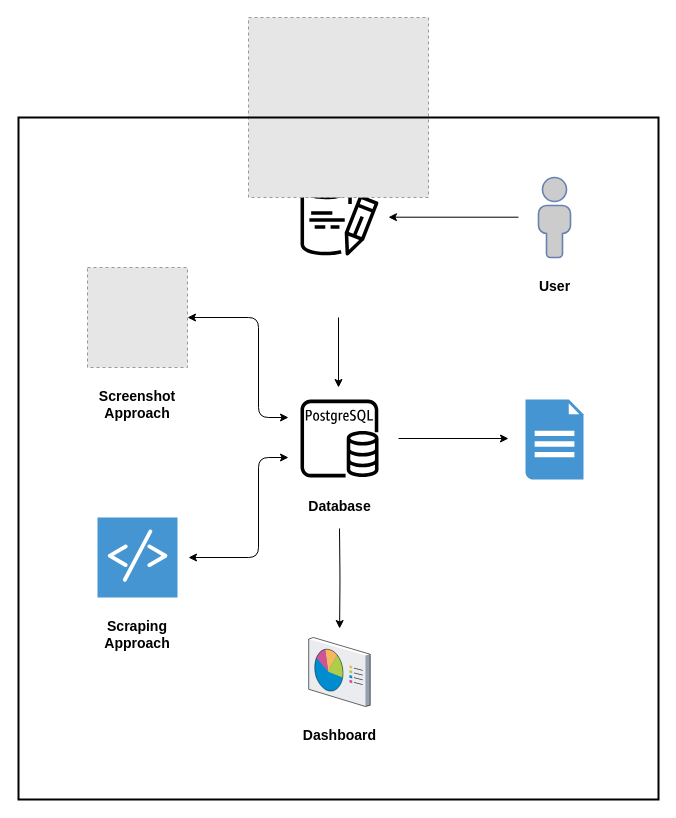
Image size: 676x818. Some labels were removed from this diagram. Grey dashed boxes stand in for pictures. Here are the shapes that lost their labels. From the top down, the centre of each, then its label:
point 339,216: Campaign Registration
point 554,439: General Report
